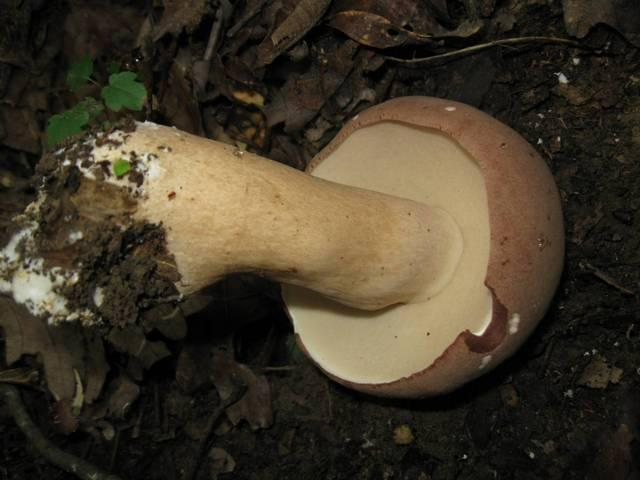Non-edible Mushroom: (7, 93, 567, 401)
